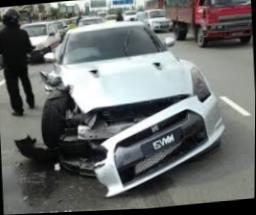Bumper: (45, 92, 215, 197)
Fender: (34, 61, 87, 112)
